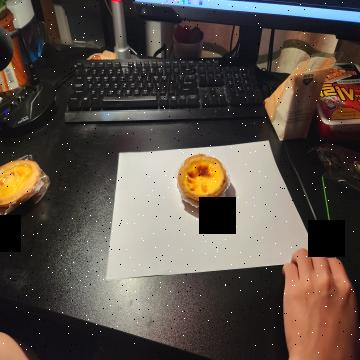EggTart: (178, 153, 228, 204)
